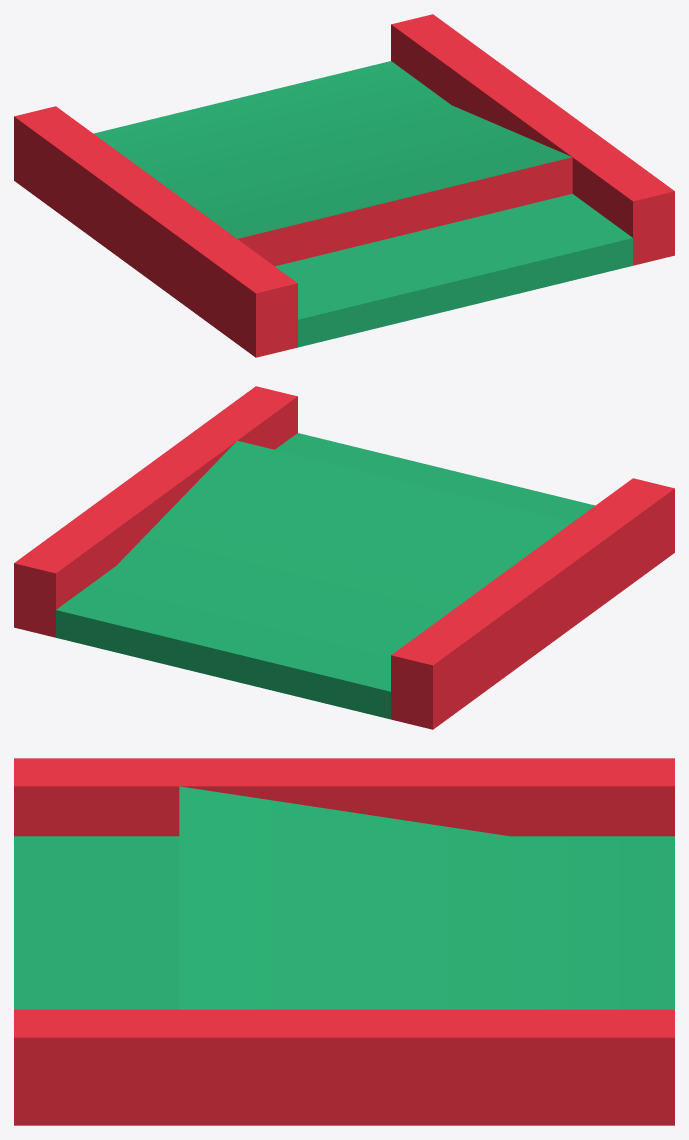
The model's file is rampSharp.fbx.
The picture shows the model from 3 angles, top to bottom: view 1: azimuth 30°, elevation 25°; view 2: azimuth 150°, elevation 25°; view 3: azimuth 270°, elevation 25°; orthographic projection. The views are drawn at different scales.
Visible parts, largest first — view 1: rampSharp; view 2: rampSharp; view 3: rampSharp.
Part boxes in pixels (x1=…): rampSharp: x1=14, y1=14, x2=674, y2=357; rampSharp: x1=14, y1=386, x2=674, y2=729; rampSharp: x1=14, y1=758, x2=674, y2=1125.
Size of the model in its own units: 10 by 1.47 by 10.
